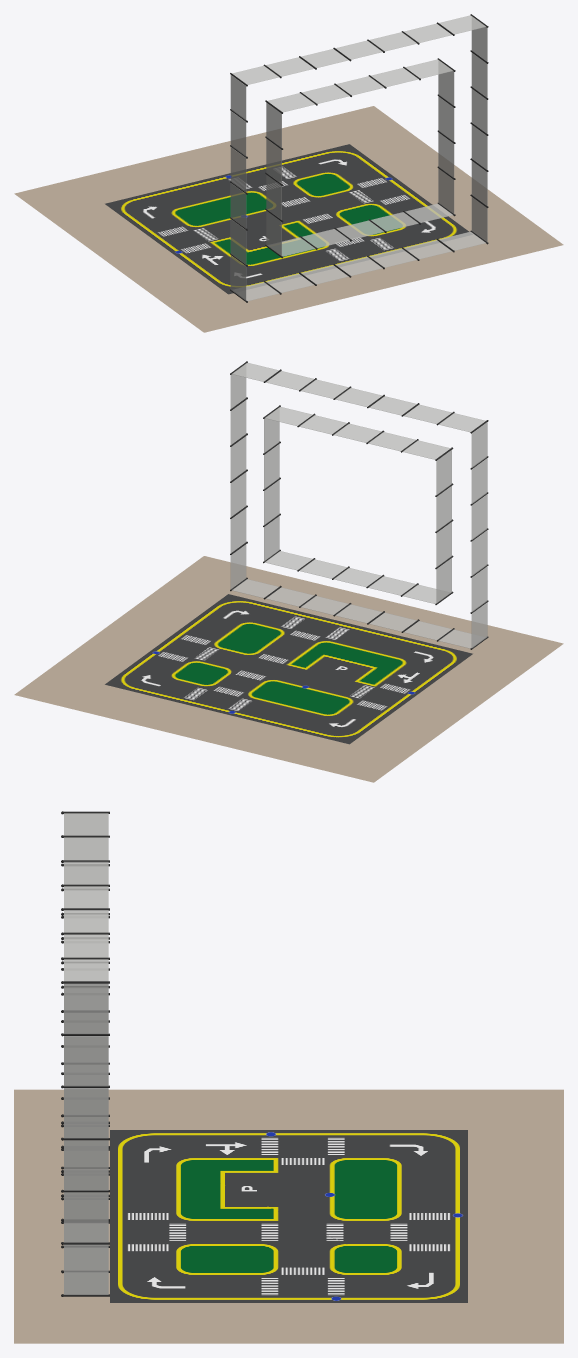
File: track.fbx
The picture shows the model from 3 angles, top to bottom: view 1: azimuth 30°, elevation 25°; view 2: azimuth 150°, elevation 25°; view 3: azimuth 270°, elevation 25°; orthographic projection. The views are drawn at different scales.
Parts seen in each view (by area): view 1: Floor, Mat, Panel-1, Panel-2, Panel-3, Panel-4, Panel-5, Panel-6, Panel-37, Panel-38, Panel-39, Panel-16 (+34 smaller); view 2: Floor, Mat, Panel-3, Panel-4, Panel-6, Panel-1, Panel-2, Panel-5, Panel-16, Panel-17, Panel-18, Panel-19 (+32 smaller); view 3: Floor, Mat, Panel-14, Panel-15, Panel-16, Panel-17, Panel-18, Panel-19, Panel-37, Panel-38, Panel-39, Panel-36 (+17 smaller).
Part boxes in pixels (box(x1,y1,x2,y2)): Floor: box(14, 106, 563, 332); Mat: box(105, 144, 472, 294); Panel-1: box(230, 255, 246, 300); Panel-2: box(230, 219, 246, 264); Panel-3: box(230, 183, 246, 228); Panel-4: box(230, 147, 246, 192); Panel-5: box(230, 111, 246, 156); Panel-6: box(230, 75, 246, 120); Panel-37: box(438, 96, 454, 141); Panel-38: box(438, 132, 454, 177); Panel-39: box(438, 168, 454, 213); Panel-16: box(471, 88, 487, 133); Floor: box(14, 556, 563, 782); Mat: box(105, 594, 472, 744); Panel-3: box(471, 530, 487, 575); Panel-4: box(471, 494, 487, 539); Panel-6: box(471, 422, 487, 467); Panel-1: box(471, 602, 487, 647); Panel-2: box(471, 566, 487, 611); Panel-5: box(471, 458, 487, 503); Panel-16: box(230, 436, 246, 480); Panel-17: box(230, 472, 246, 516); Panel-18: box(230, 508, 246, 552); Panel-19: box(230, 544, 246, 588); Floor: box(14, 1089, 563, 1343); Mat: box(110, 1130, 467, 1302); Panel-14: box(64, 983, 108, 1033); Panel-15: box(64, 1036, 108, 1086); Panel-16: box(64, 1088, 108, 1138); Panel-17: box(64, 1140, 108, 1190); Panel-18: box(64, 1192, 108, 1242); Panel-19: box(64, 1244, 108, 1294); Panel-37: box(64, 1065, 107, 1114); Panel-38: box(64, 1117, 107, 1166); Panel-39: box(64, 1169, 107, 1218); Panel-36: box(64, 1013, 107, 1061).
Size of the model in its own units: 4.7 by 2.76 by 4.3.
4 materials, 1 textured.
